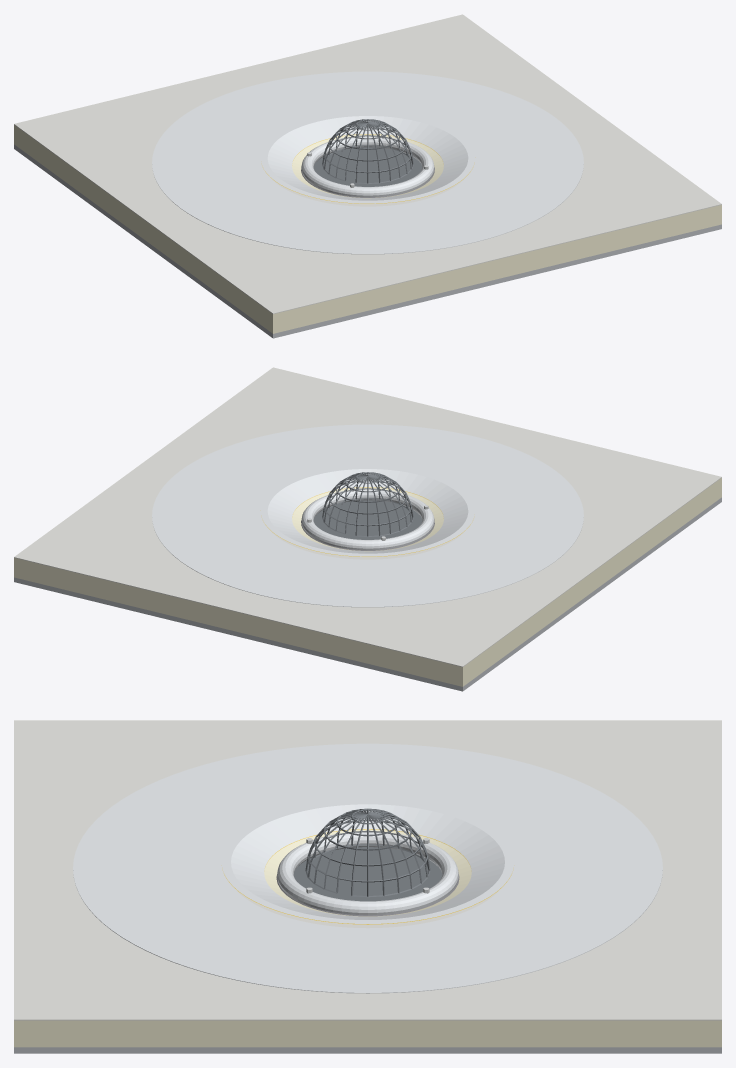
Rendered from cast-iron-drain-D-1-TYP.glb.
3 renders of one model, top to bottom at view 1: azimuth 30°, elevation 25°; view 2: azimuth 150°, elevation 25°; view 3: azimuth 270°, elevation 25°, orthographic. The views are drawn at different scales.
Visible parts, largest first — view 1: existing__membrane, topcoat__field, existing__insulation, topcoat__sump, existing__steel_deck, existing__bowl_flange, topcoat__over_ring, existing__strainer_dome; view 2: existing__membrane, topcoat__field, existing__insulation, topcoat__sump, existing__steel_deck, existing__bowl_flange, topcoat__over_ring, existing__strainer_dome; view 3: existing__membrane, topcoat__field, existing__insulation, topcoat__sump, existing__bowl_flange, topcoat__over_ring, existing__steel_deck, existing__strainer_dome.
Boxes of the visible parts, x1=… form: existing__membrane: x1=14, y1=14, x2=721, y2=314; topcoat__field: x1=152, y1=71, x2=583, y2=254; existing__insulation: x1=14, y1=125, x2=721, y2=333; topcoat__sump: x1=261, y1=113, x2=474, y2=203; existing__steel_deck: x1=14, y1=144, x2=721, y2=338; existing__bowl_flange: x1=313, y1=147, x2=422, y2=186; topcoat__over_ring: x1=301, y1=136, x2=434, y2=197; existing__strainer_dome: x1=322, y1=119, x2=413, y2=183; existing__membrane: x1=14, y1=367, x2=721, y2=667; topcoat__field: x1=152, y1=424, x2=583, y2=607; existing__insulation: x1=14, y1=478, x2=721, y2=686; topcoat__sump: x1=261, y1=466, x2=474, y2=556; existing__steel_deck: x1=14, y1=497, x2=721, y2=691; existing__bowl_flange: x1=313, y1=500, x2=422, y2=539; topcoat__over_ring: x1=301, y1=489, x2=434, y2=550; existing__strainer_dome: x1=322, y1=472, x2=413, y2=536; existing__membrane: x1=14, y1=720, x2=721, y2=1020; topcoat__field: x1=73, y1=743, x2=662, y2=993; existing__insulation: x1=14, y1=830, x2=721, y2=1047; topcoat__sump: x1=221, y1=800, x2=514, y2=923; existing__bowl_flange: x1=293, y1=847, x2=442, y2=901; topcoat__over_ring: x1=277, y1=832, x2=458, y2=915; existing__steel_deck: x1=14, y1=1047, x2=721, y2=1053; existing__strainer_dome: x1=305, y1=808, x2=430, y2=897.
Size of the model in its own units: 1.52 by 0.3354 by 1.52.
